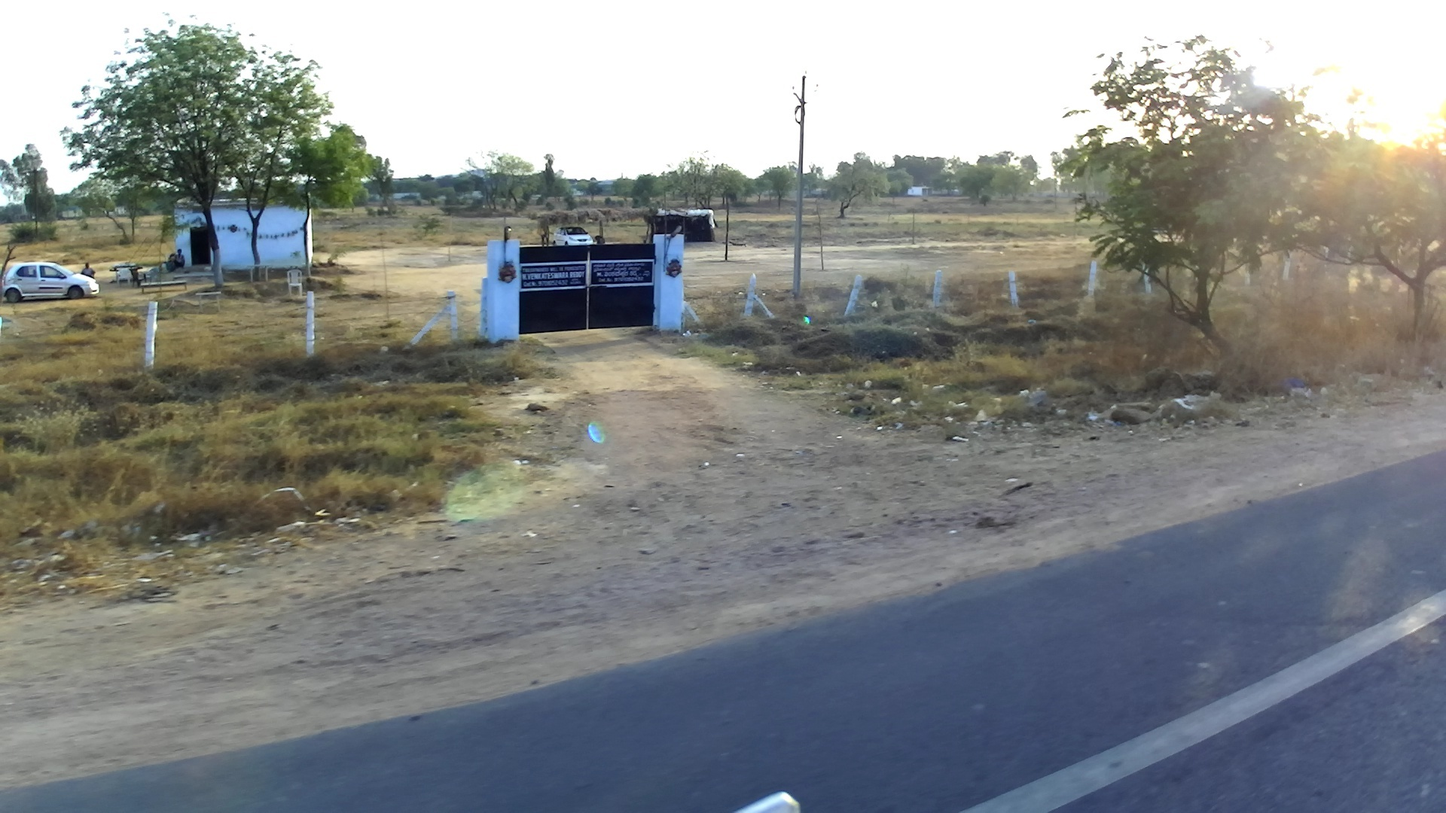car: (3, 260, 100, 303), (550, 224, 593, 246)
person: (78, 260, 96, 279), (173, 246, 186, 270), (163, 254, 176, 271)
